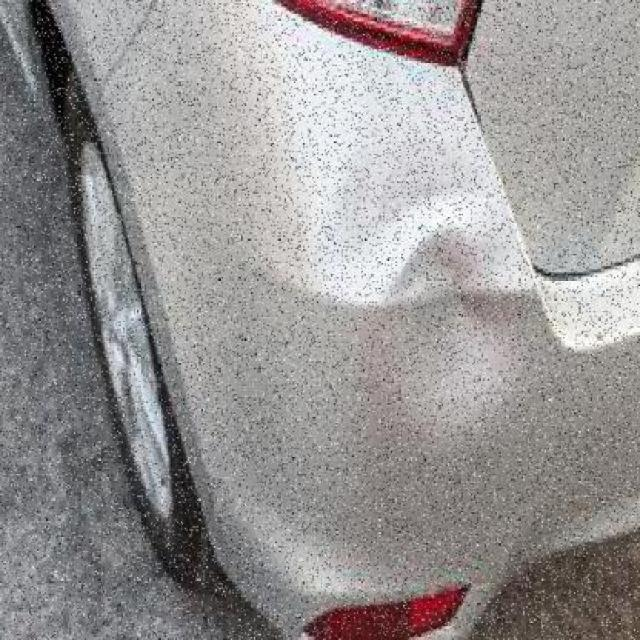rear-bumper-dent: (155, 183, 637, 640)
